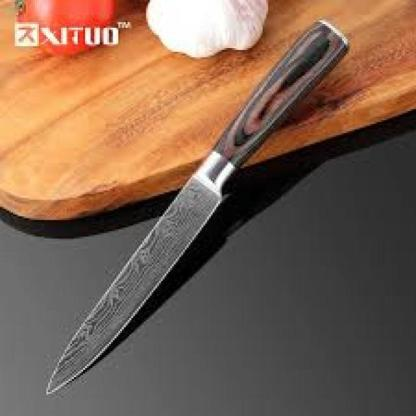Knife: (21, 19, 368, 392)
